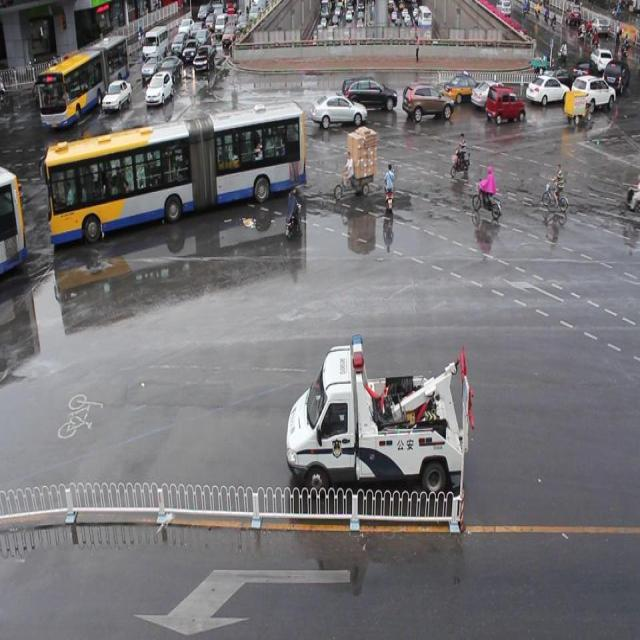bus: (285, 338, 464, 498)
car: (310, 92, 366, 130), (342, 77, 396, 111), (400, 82, 452, 117), (485, 86, 524, 124), (525, 73, 567, 101), (470, 79, 513, 105), (444, 74, 479, 100)
van: (48, 99, 303, 240)
